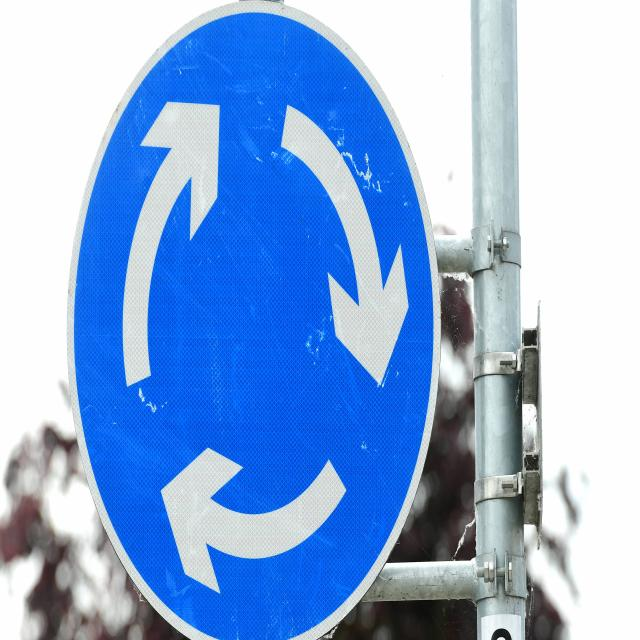roundabout: (66, 1, 442, 640)
